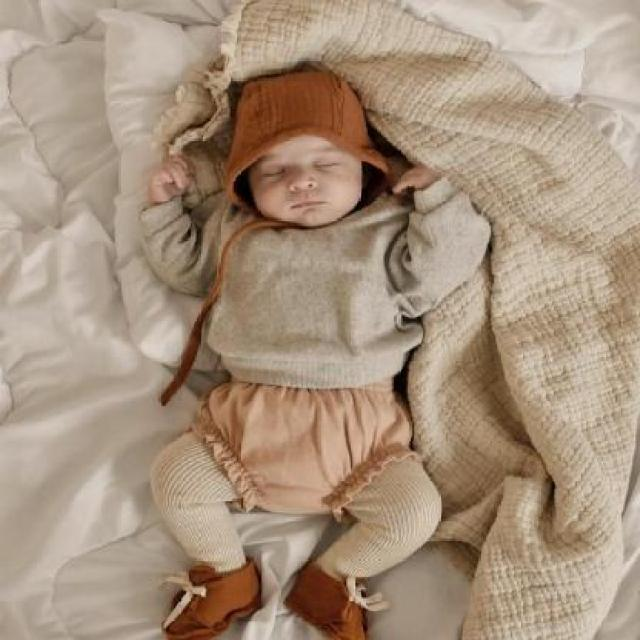baby: (134, 64, 492, 638)
